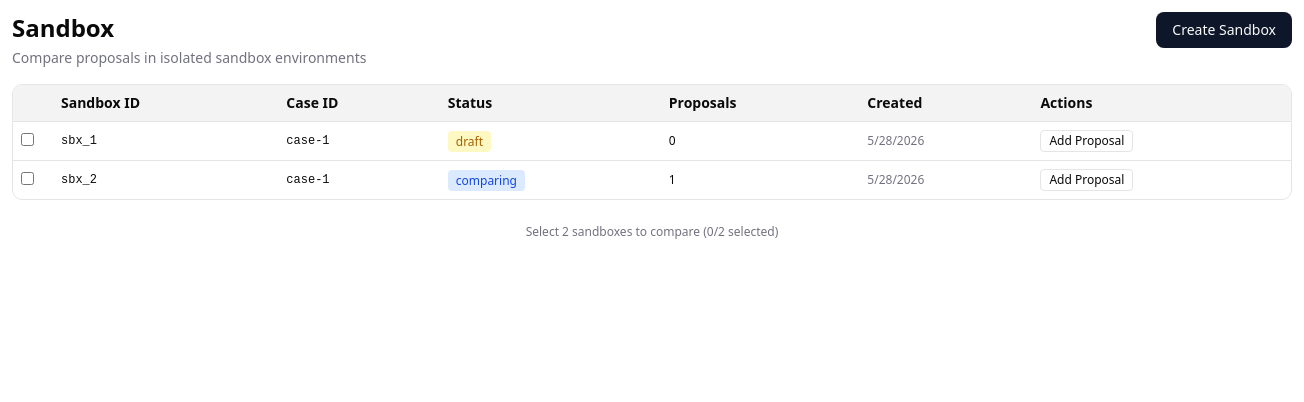
Test: SandboxCompare › shows comparison error panel
Expected: the text "sbx_1" is shown, [53,122,278,160]
What coordinates should you click on to do the following:
click the checkbox next to "sbx_1"
I would click on:
 (28, 140)
Its box is [21,133,34,146].
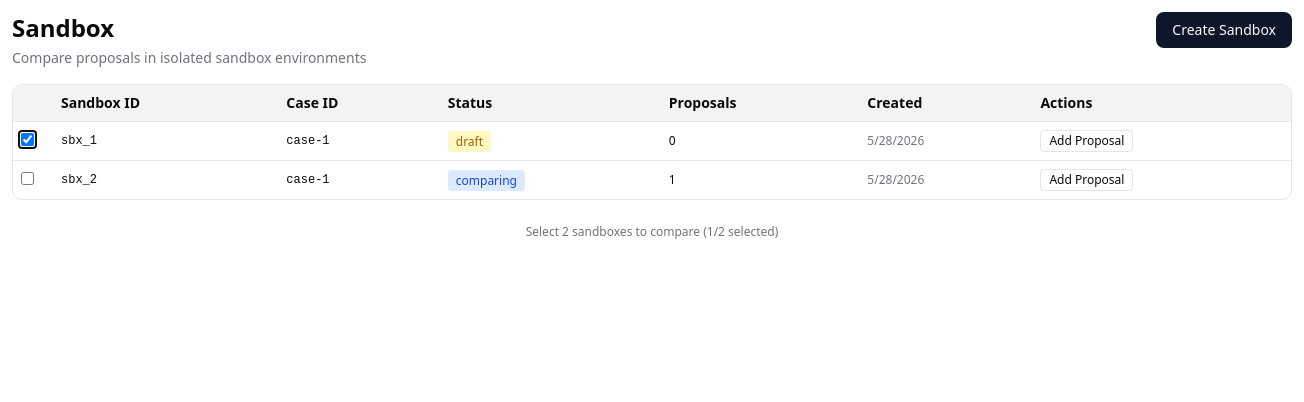
What coordinates should you click on to do the following:
click the checkbox next to "sbx_2"
I would click on:
 (28, 178)
Its box is [21,172,34,185].
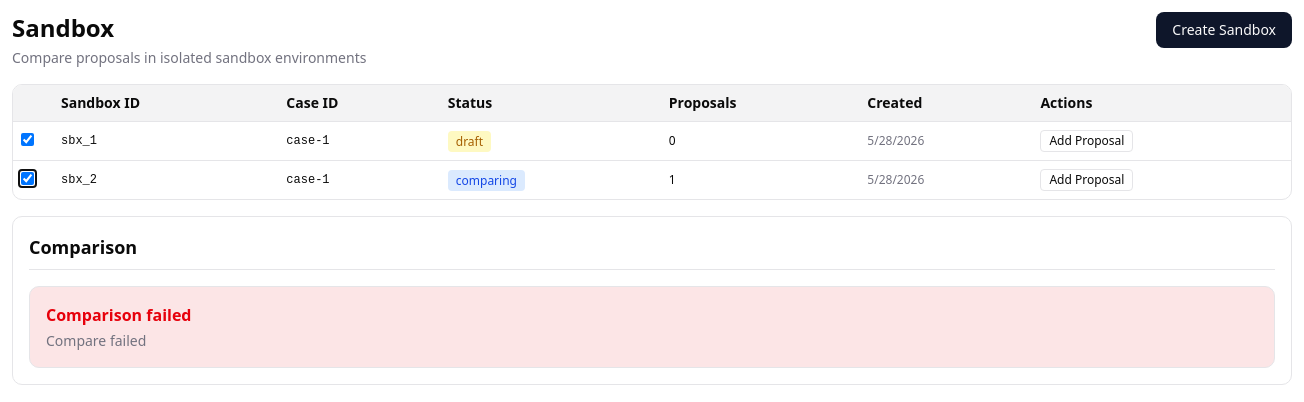
Expected: the text "Comparison failed" is shown, [46,304,192,326]
